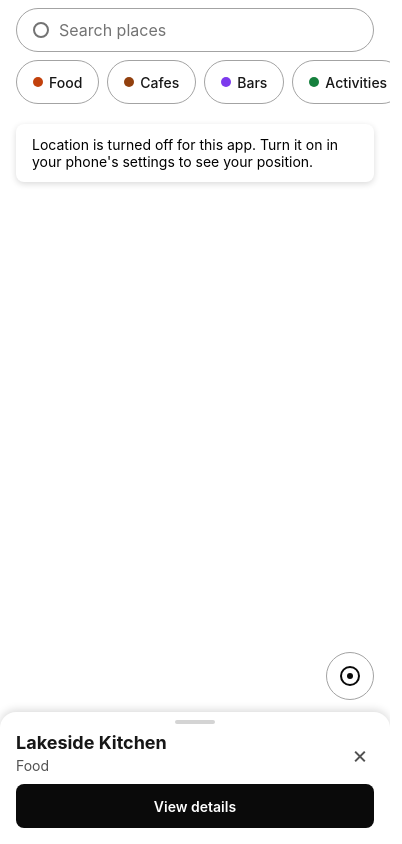
Test case: the close button and a press beside the markers close the card
Click the button named "Close".
click(360, 754)  # box [338,732,382,776]
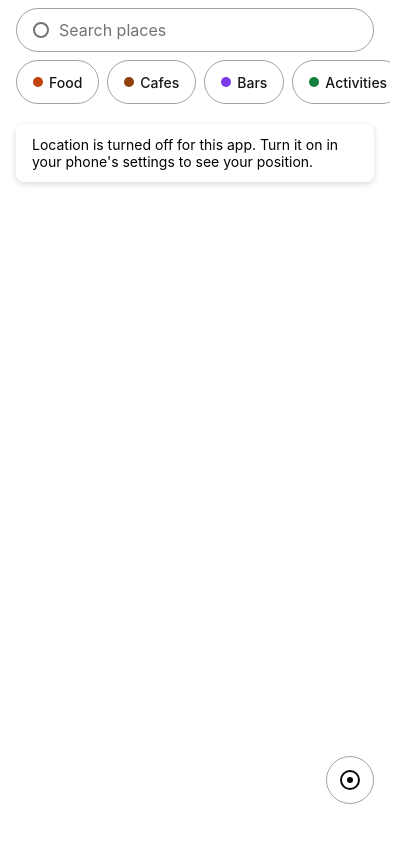
Now the heading "Lakeside Kitchen" is gone
